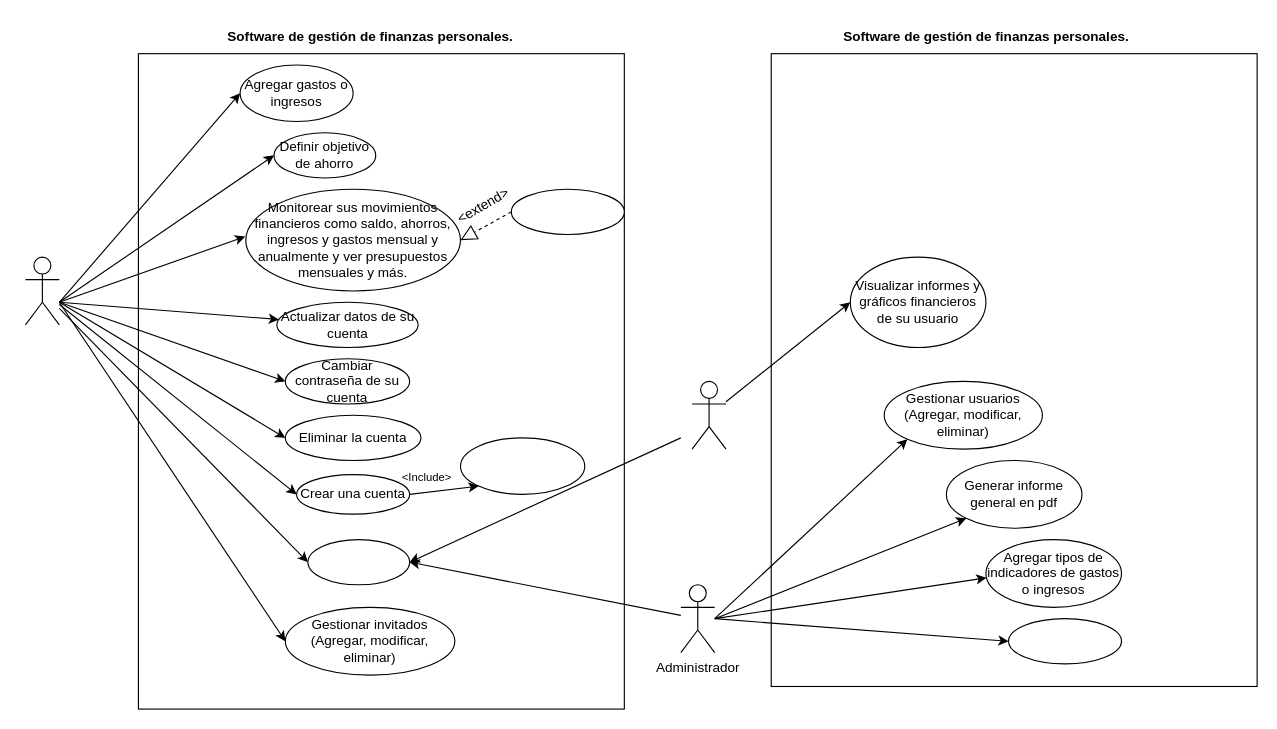
The diagram is 1277 pixels wide and 729 high, and some of its shapes have lost their labels. The shapes that lost their labels are listed below. From the top down, each one's centre as x and y in pixels, then its label:
At point (567, 211): "Por mes y año.".
At point (41, 290): "Usuario".
At point (708, 414): "Invitado".
At point (522, 465): "Verificación de los credenciales".
At point (358, 561): "Iniciar sesión".
At point (1064, 641): "Cambiar contraseña".
